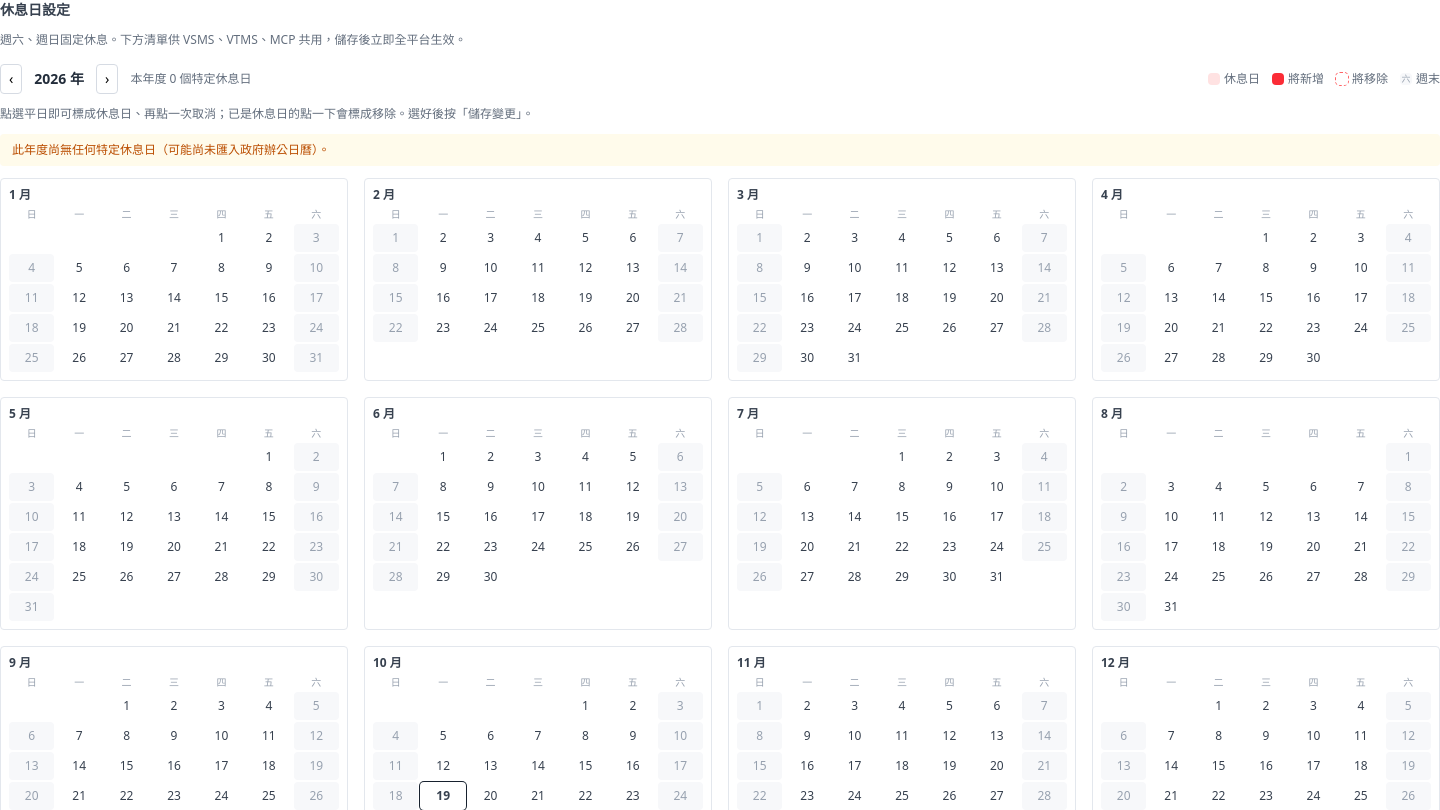
RestDaysManager 年度日曆 › 同一天點兩下等於沒變；取消會清掉待儲存
Click the 4th button "3" at (538, 457), box left=515, top=443, right=561, bottom=471
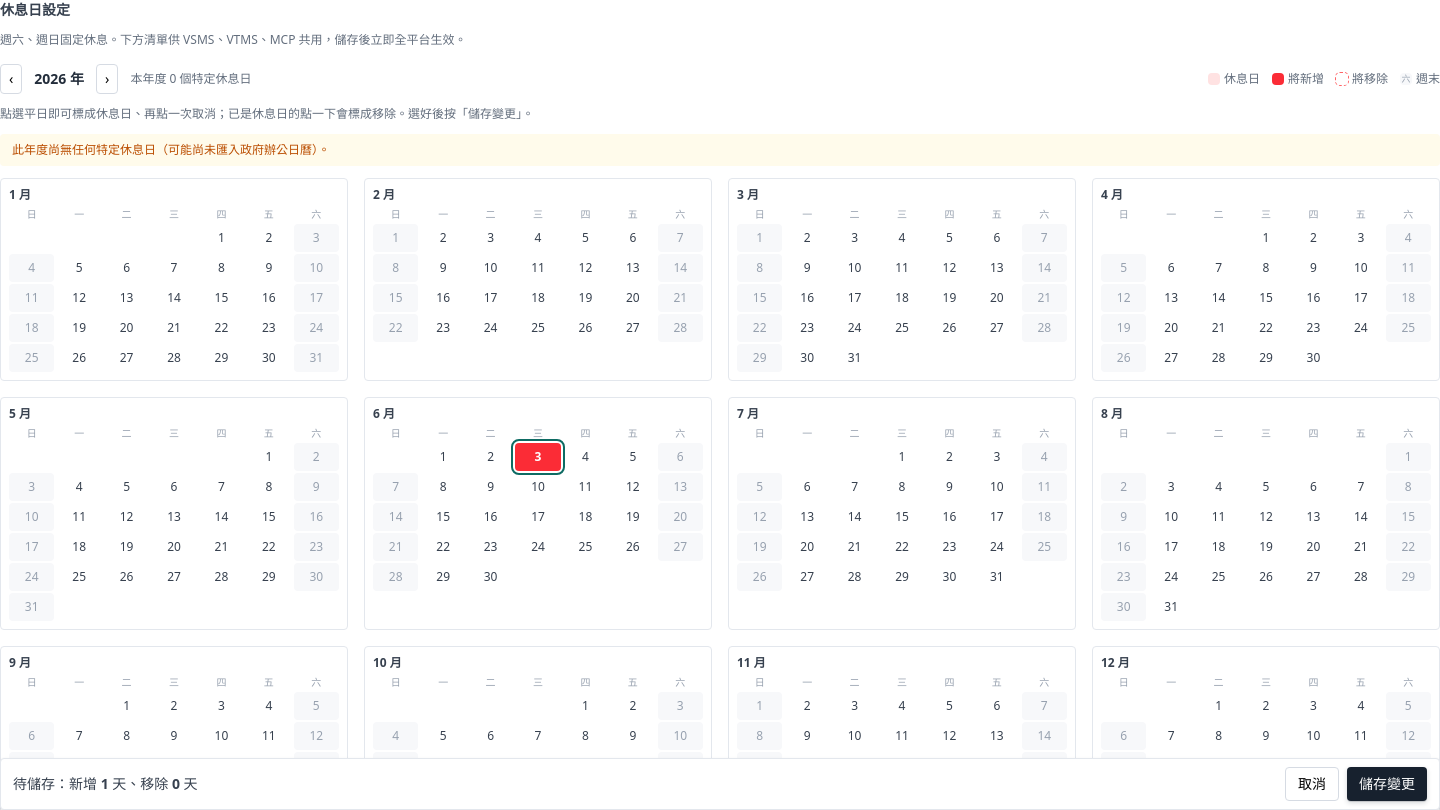
Click the 4th button "3" at (538, 457), box left=515, top=443, right=561, bottom=471
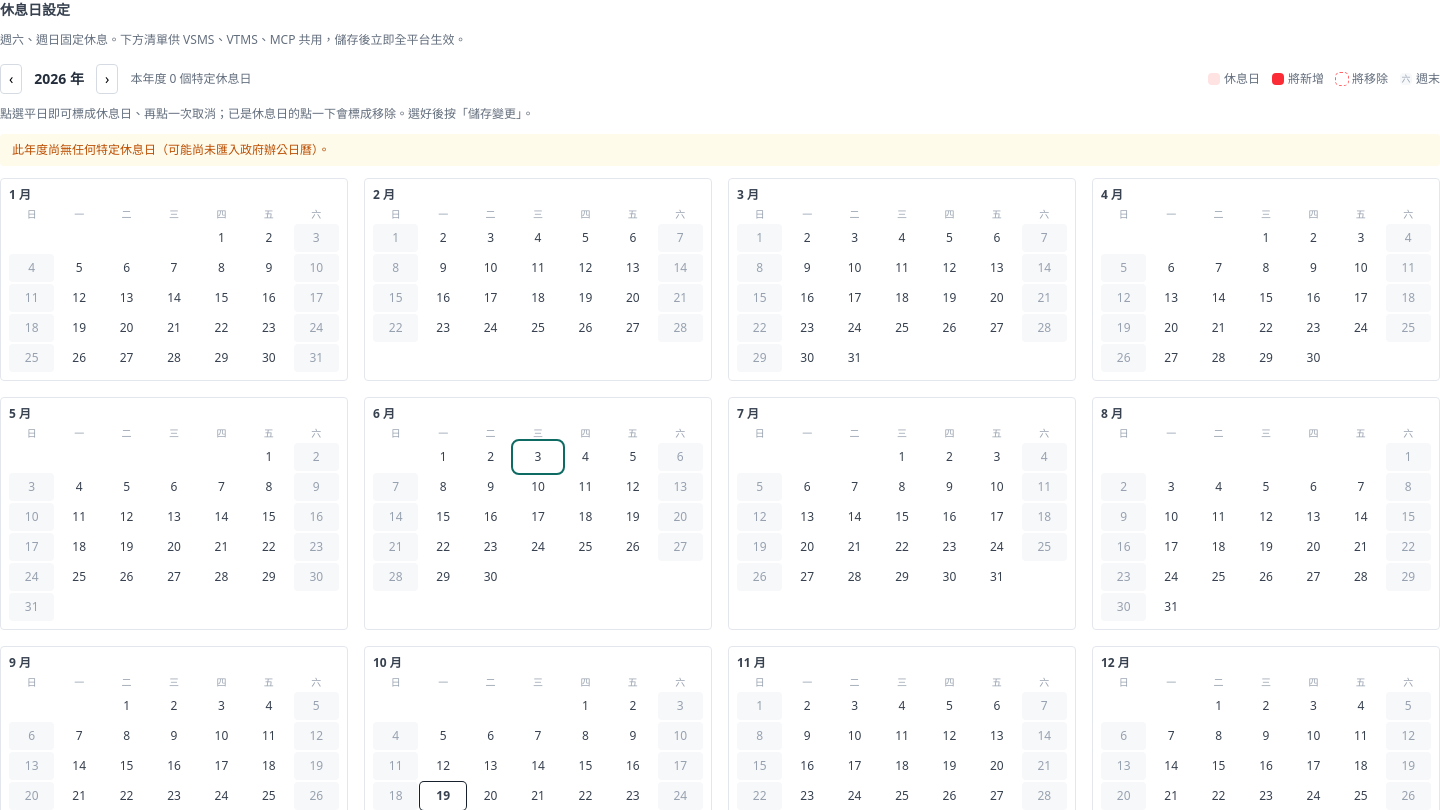
Now the text "待儲存" is gone
Click the 4th button "3" at (538, 457), box left=515, top=443, right=561, bottom=471
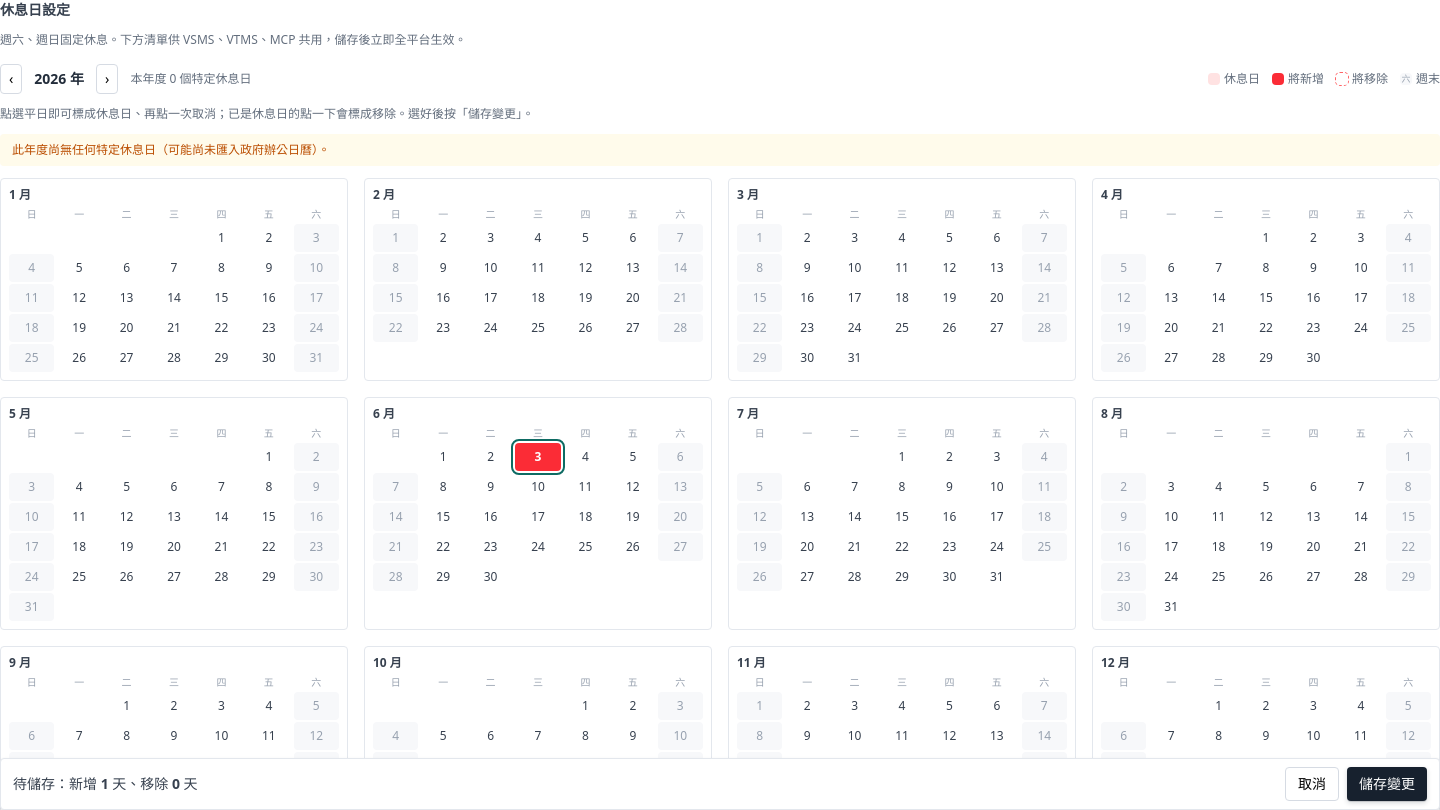
Click the button "取消" at (1312, 784), box left=1285, top=767, right=1339, bottom=801
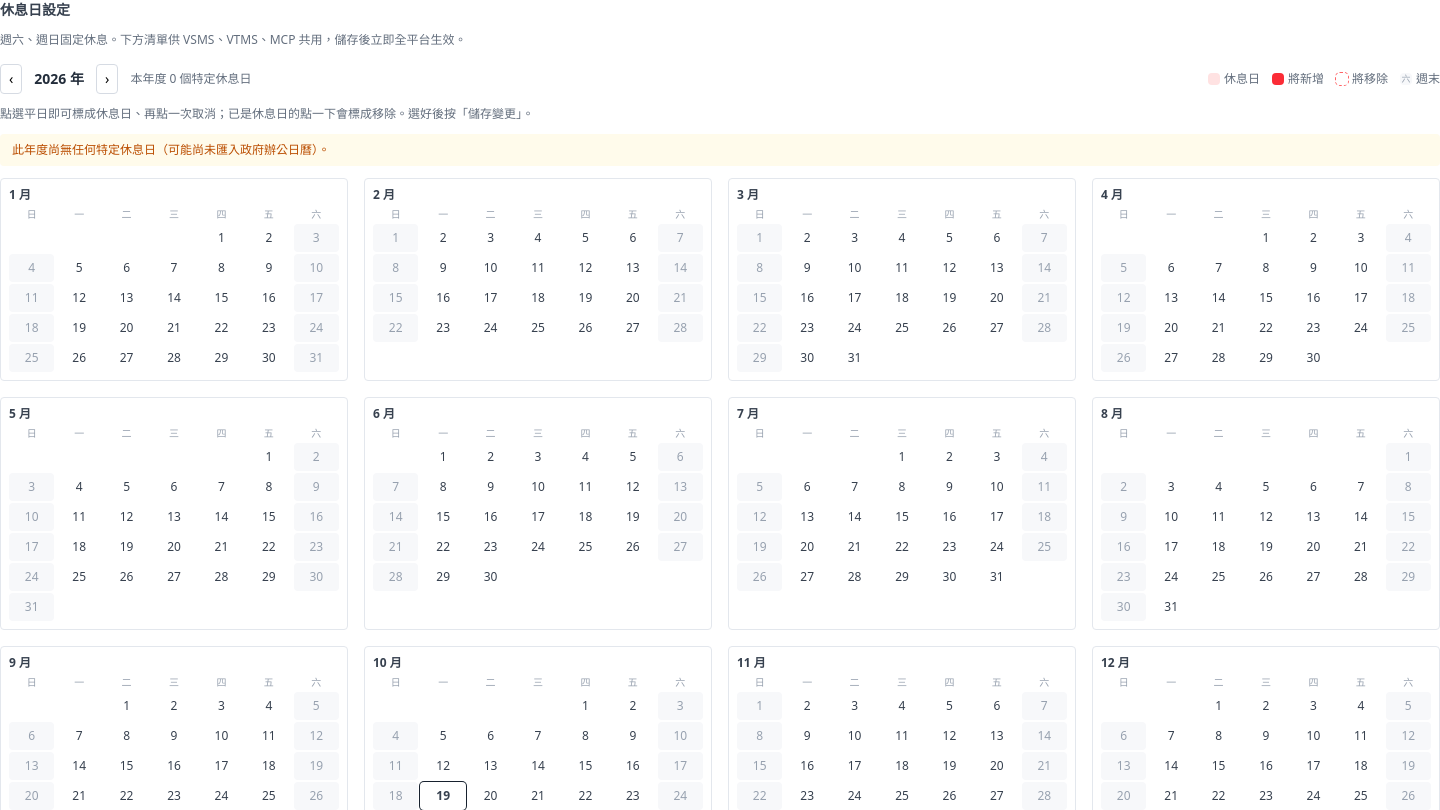
Now the text "待儲存" is gone
